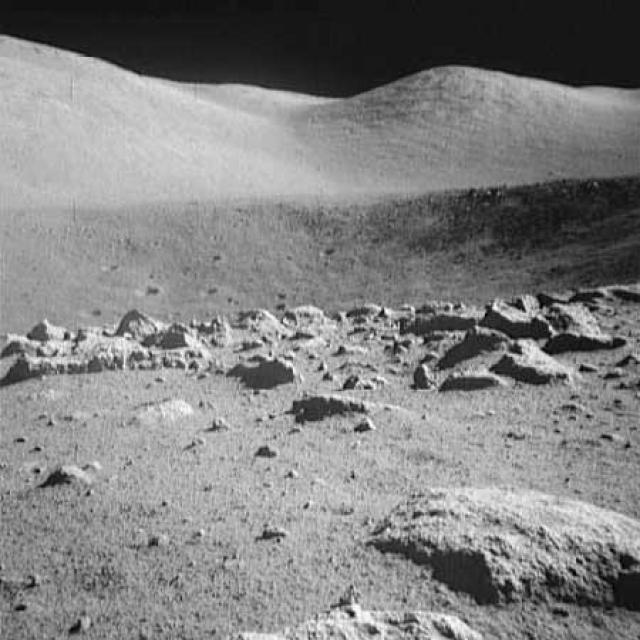crater: (0, 171, 639, 309)
rock: (370, 472, 638, 603), (7, 309, 203, 377), (215, 598, 482, 638), (287, 382, 400, 420), (504, 331, 561, 392), (205, 306, 287, 346), (554, 303, 623, 346), (488, 292, 556, 332), (418, 293, 491, 327), (237, 346, 298, 386), (289, 300, 340, 340), (446, 324, 502, 358), (440, 364, 505, 393), (48, 460, 92, 489)
